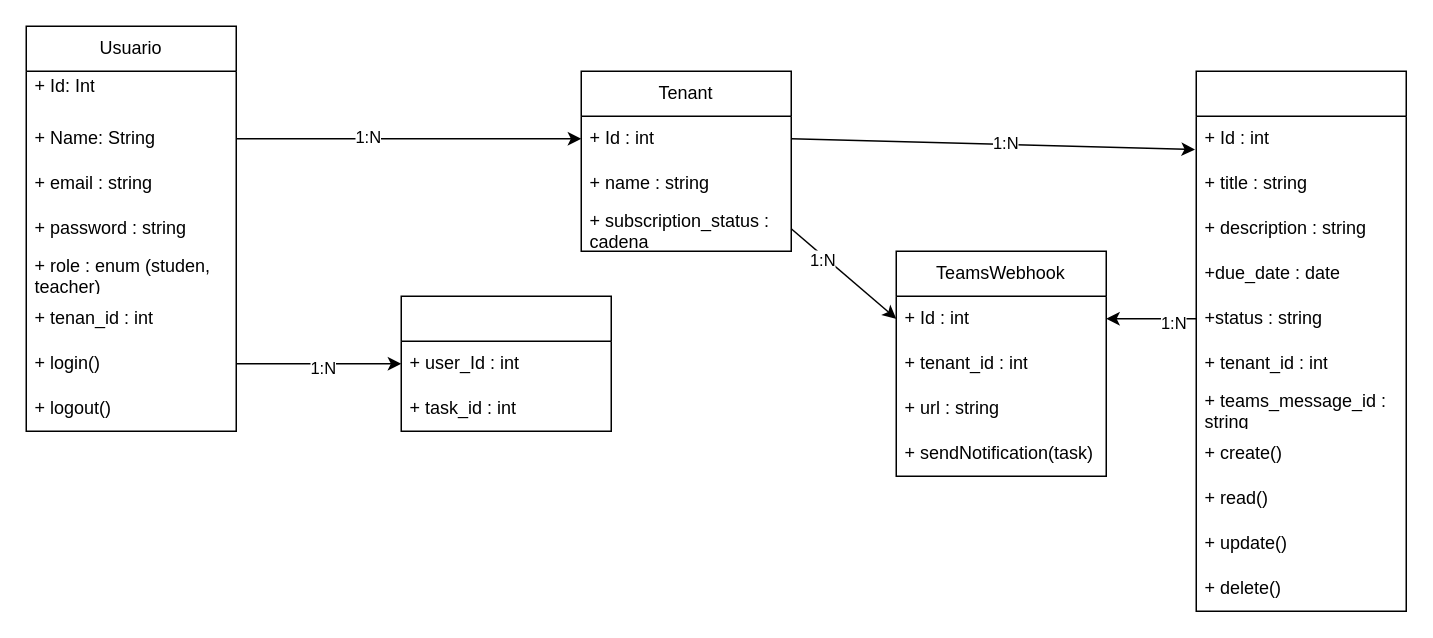
Image size: 1433x638. Some labels were removed from this diagram. The shapes that lost their labels are listed below. From the top down, each one's box as (x1, y1, x2, y2) in pixels, then its label:
(1195, 70, 1406, 611): Task
(400, 295, 611, 431): AssignedTask
